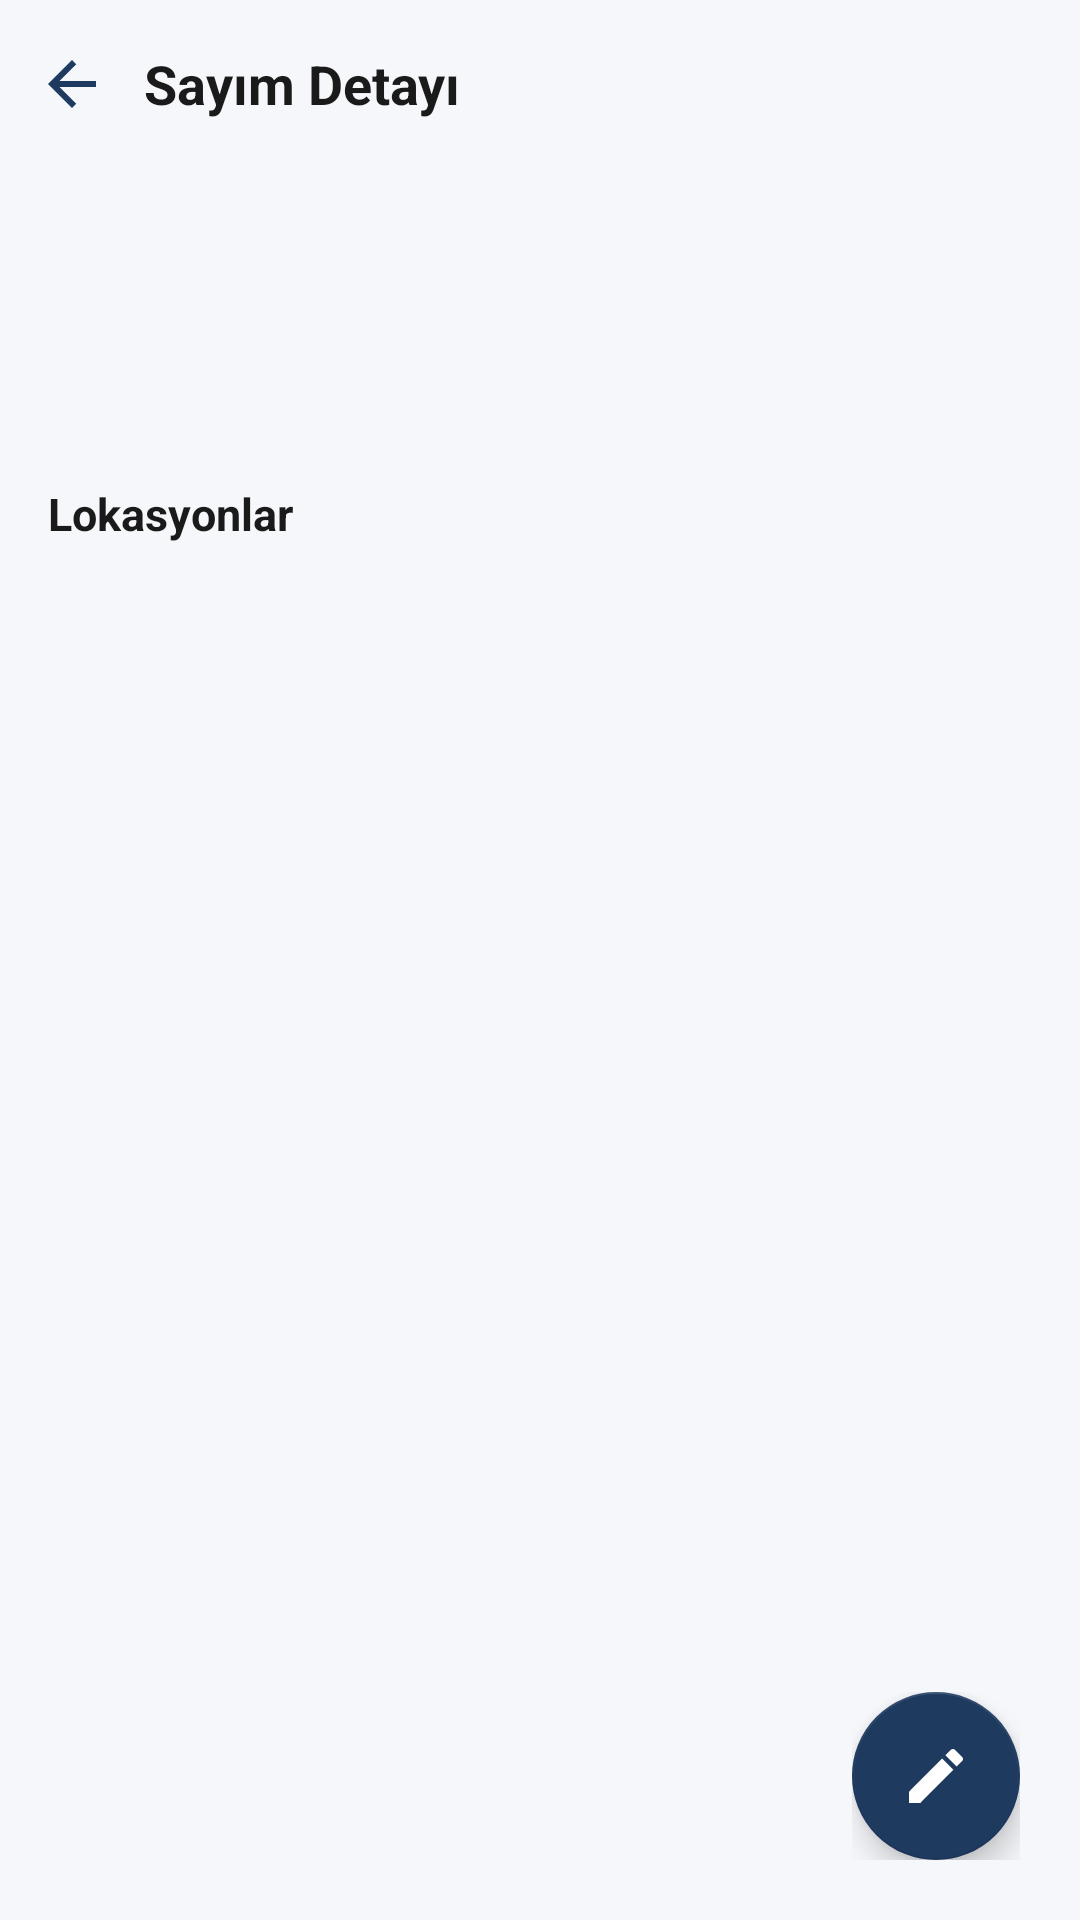

Icons on this 1080*1920 Android screen, each with the point to tap as point (x, y):
Geri: point (72, 84)
